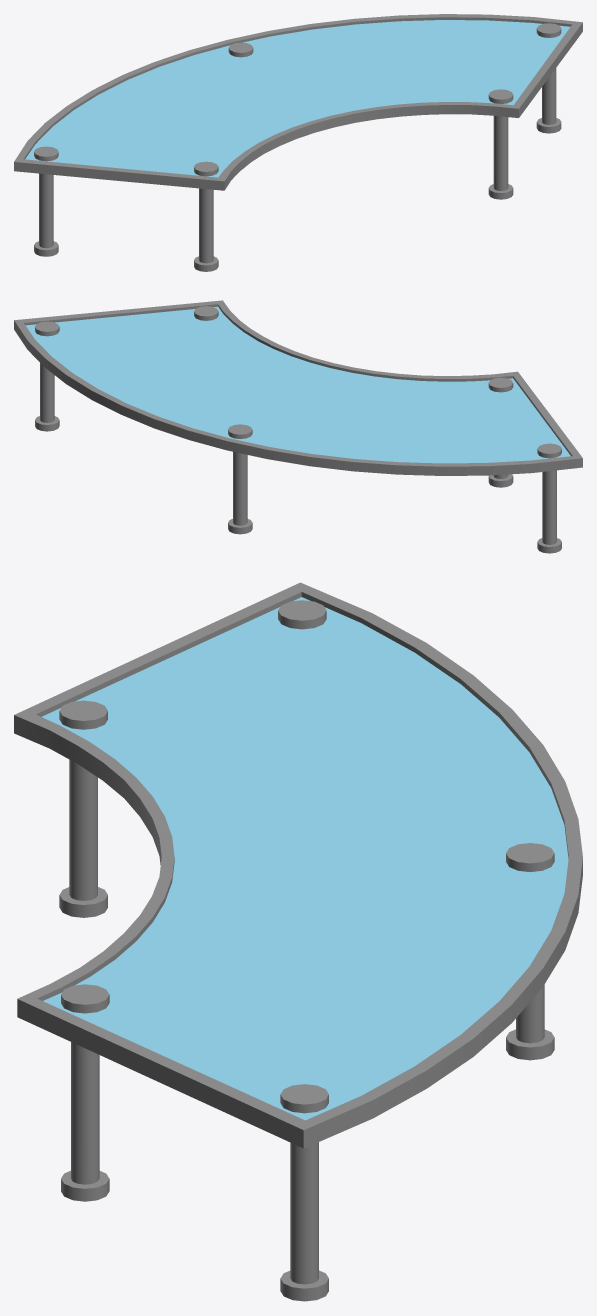
Rendered from Table_04.FBX.
3 views of the same model, one above another, from view 1: azimuth 30°, elevation 25°; view 2: azimuth 150°, elevation 25°; view 3: azimuth 270°, elevation 25° (orthographic). The views are drawn at different scales.
Visible parts, largest first — view 1: Table_04; view 2: Table_04; view 3: Table_04.
Part boxes in pixels (x1,y1,x2,y2): Table_04: (14, 14, 582, 271); Table_04: (14, 300, 582, 553); Table_04: (14, 582, 582, 1301).
Bounding box in the file's own units: 3.65 × 0.6124 × 1.6.
